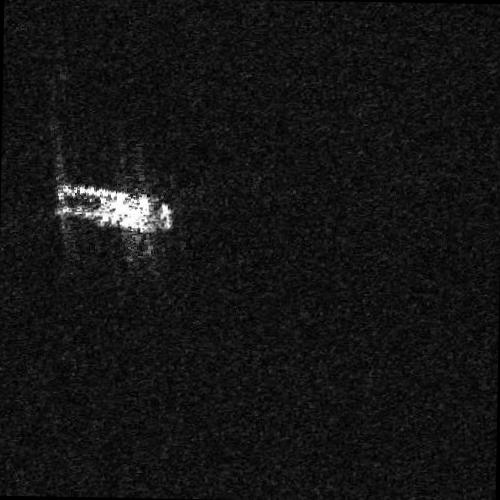ship: (54, 183, 174, 234)
